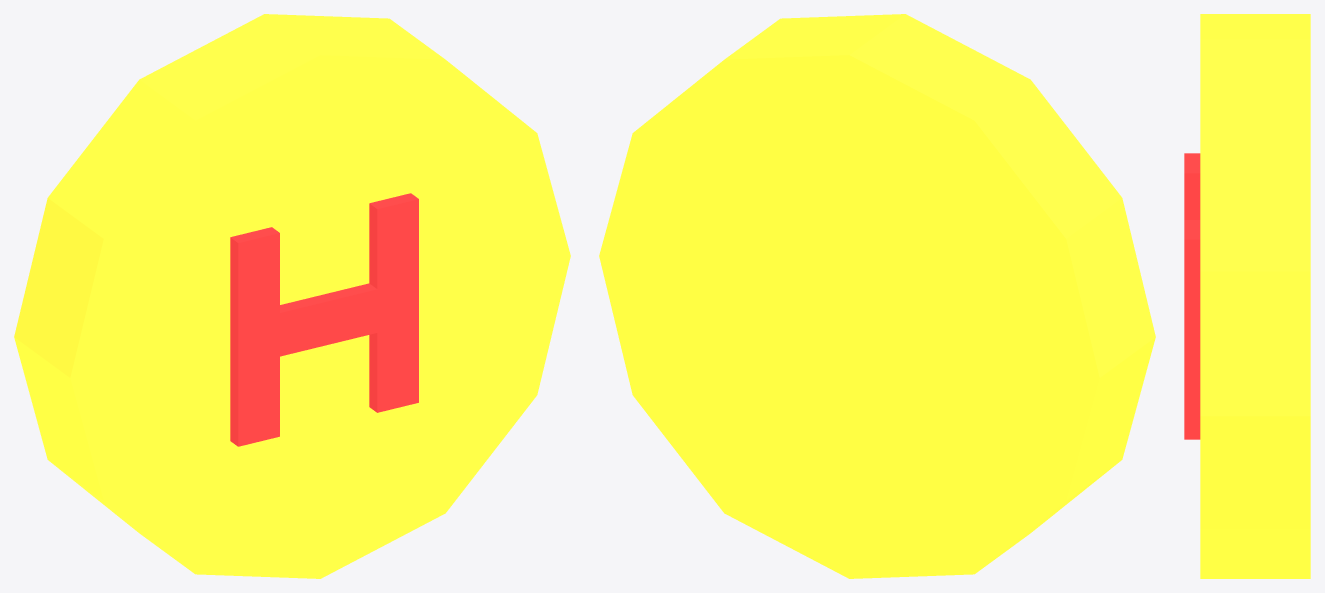
3 renders of one model, left to right at view 1: azimuth 30°, elevation 25°; view 2: azimuth 150°, elevation 25°; view 3: azimuth 270°, elevation 25°, orthographic.
Parts seen in each view (by area): view 1: pu_x2; view 2: pu_x2; view 3: pu_x2.
Boxes of the visible parts, x1,y1,x2,y2 form: pu_x2: (14, 14, 570, 578); pu_x2: (599, 14, 1155, 578); pu_x2: (1184, 14, 1310, 578).
Size of the model in its own units: 0.72 by 0.72 by 0.16.
